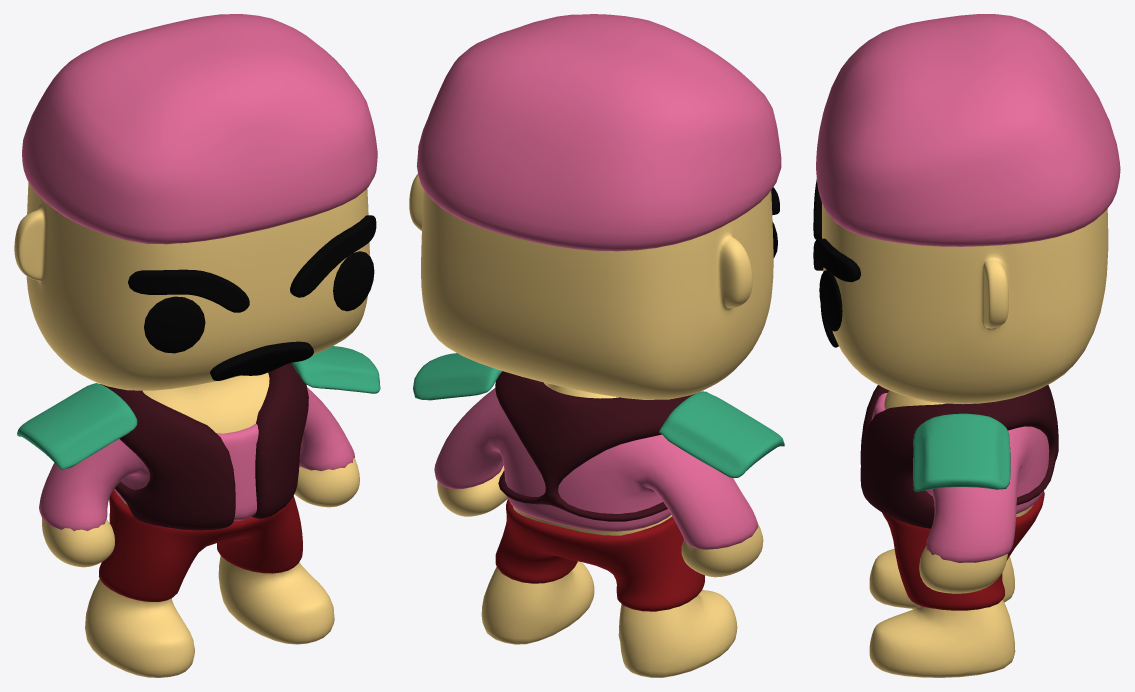
Rendered from Enemy Boss.fbx.
The picture shows the model from 3 angles, left to right: view 1: azimuth 30°, elevation 25°; view 2: azimuth 150°, elevation 25°; view 3: azimuth 270°, elevation 25°; orthographic projection. The views are drawn at different scales.
Visible parts, largest first — view 1: HATBOSS_3:ZBrushPolyMesh3D, HEADBOSS_3:ZBrushPolyMesh3D, BODYBOSS_3:ZBrushPolyMesh3D, ARMORBOSS_3:ZBrushPolyMesh3D, PANTSBOSS_3:ZBrushPolyMesh3D, T_SHIRTBOSS_3:ZBrushPolyMesh3D, SHOULDER_3:ZBrushPolyMesh3D, EYEBROW_AND_MUSTACHE_BOSS_3:ZBrushPolyMesh3D, EYEBOSS_3:ZBrushPolyMesh3D; view 2: HATBOSS_3:ZBrushPolyMesh3D, HEADBOSS_3:ZBrushPolyMesh3D, T_SHIRTBOSS_3:ZBrushPolyMesh3D, BODYBOSS_3:ZBrushPolyMesh3D, ARMORBOSS_3:ZBrushPolyMesh3D, PANTSBOSS_3:ZBrushPolyMesh3D, SHOULDER_3:ZBrushPolyMesh3D; view 3: HATBOSS_3:ZBrushPolyMesh3D, HEADBOSS_3:ZBrushPolyMesh3D, BODYBOSS_3:ZBrushPolyMesh3D, ARMORBOSS_3:ZBrushPolyMesh3D, T_SHIRTBOSS_3:ZBrushPolyMesh3D, SHOULDER_3:ZBrushPolyMesh3D, PANTSBOSS_3:ZBrushPolyMesh3D, EYEBROW_AND_MUSTACHE_BOSS_3:ZBrushPolyMesh3D, EYEBOSS_3:ZBrushPolyMesh3D.
Part boxes in pixels (<box>): HATBOSS_3:ZBrushPolyMesh3D: <box>22,14,377,244</box>; HEADBOSS_3:ZBrushPolyMesh3D: <box>14,182,369,390</box>; BODYBOSS_3:ZBrushPolyMesh3D: <box>42,372,359,677</box>; ARMORBOSS_3:ZBrushPolyMesh3D: <box>100,363,308,530</box>; PANTSBOSS_3:ZBrushPolyMesh3D: <box>99,489,302,601</box>; T_SHIRTBOSS_3:ZBrushPolyMesh3D: <box>39,387,354,531</box>; SHOULDER_3:ZBrushPolyMesh3D: <box>17,346,380,469</box>; EYEBROW_AND_MUSTACHE_BOSS_3:ZBrushPolyMesh3D: <box>128,215,376,380</box>; EYEBOSS_3:ZBrushPolyMesh3D: <box>144,251,374,353</box>; HATBOSS_3:ZBrushPolyMesh3D: <box>417,14,781,251</box>; HEADBOSS_3:ZBrushPolyMesh3D: <box>409,174,773,399</box>; T_SHIRTBOSS_3:ZBrushPolyMesh3D: <box>434,383,758,549</box>; BODYBOSS_3:ZBrushPolyMesh3D: <box>437,382,763,677</box>; ARMORBOSS_3:ZBrushPolyMesh3D: <box>495,371,694,521</box>; PANTSBOSS_3:ZBrushPolyMesh3D: <box>495,499,704,611</box>; SHOULDER_3:ZBrushPolyMesh3D: <box>413,353,784,478</box>; HATBOSS_3:ZBrushPolyMesh3D: <box>816,14,1120,246</box>; HEADBOSS_3:ZBrushPolyMesh3D: <box>822,204,1108,404</box>; BODYBOSS_3:ZBrushPolyMesh3D: <box>869,390,1033,677</box>; ARMORBOSS_3:ZBrushPolyMesh3D: <box>860,385,1058,528</box>; T_SHIRTBOSS_3:ZBrushPolyMesh3D: <box>871,393,1049,562</box>; SHOULDER_3:ZBrushPolyMesh3D: <box>913,413,1010,491</box>; PANTSBOSS_3:ZBrushPolyMesh3D: <box>882,490,1044,610</box>; EYEBROW_AND_MUSTACHE_BOSS_3:ZBrushPolyMesh3D: <box>813,179,860,347</box>; EYEBOSS_3:ZBrushPolyMesh3D: <box>819,270,842,331</box>.
Size of the model in its own units: 12.08 by 20.32 by 9.65.
Materials: 1 (1 with a texture image).
